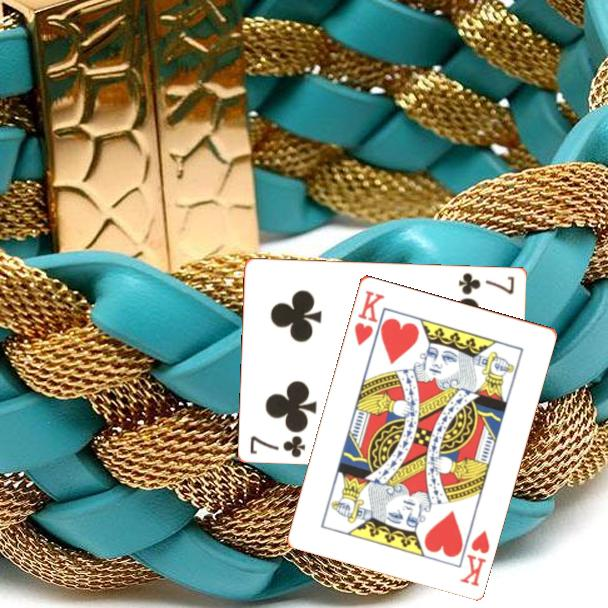c07: (455, 269, 518, 297), (247, 432, 308, 460)
h13: (351, 286, 387, 349), (456, 526, 492, 589)
